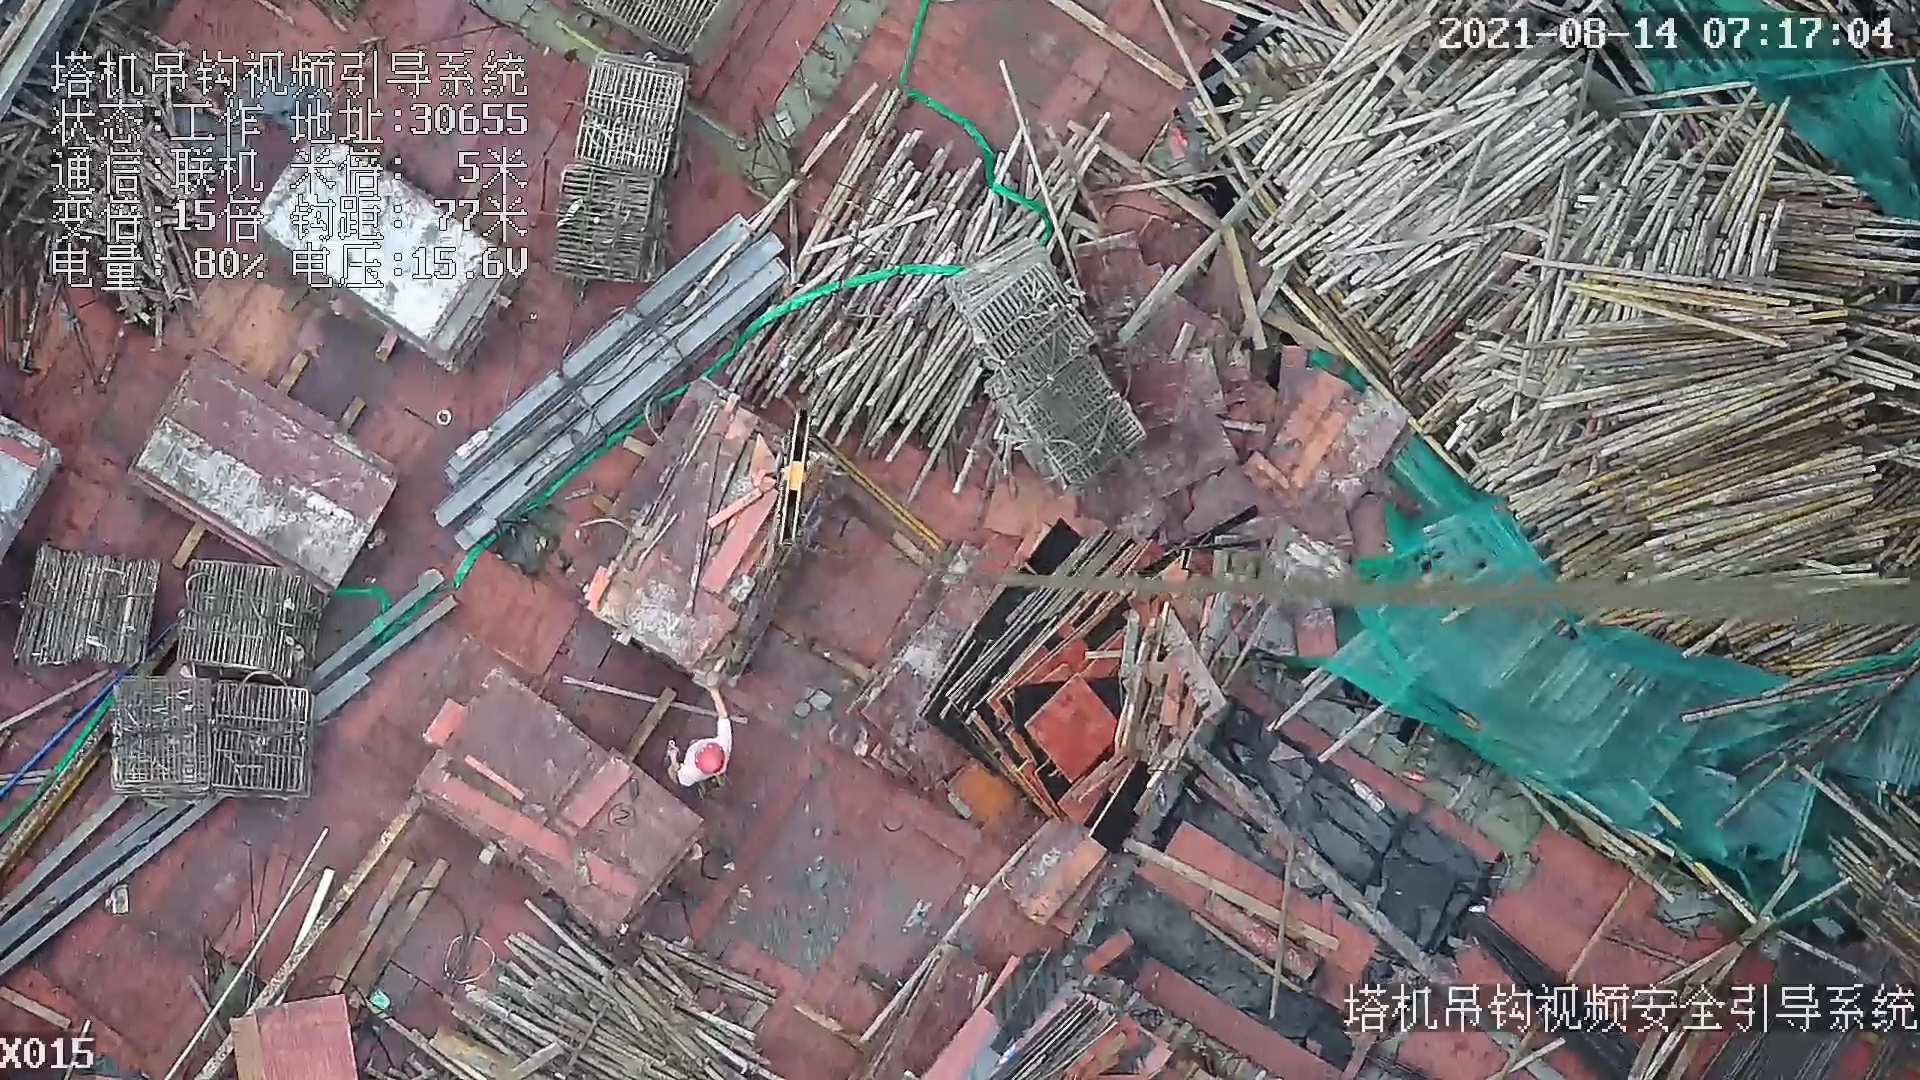helmet: (686, 739, 732, 780)
hook: (770, 410, 815, 551)
person: (660, 669, 735, 796)
